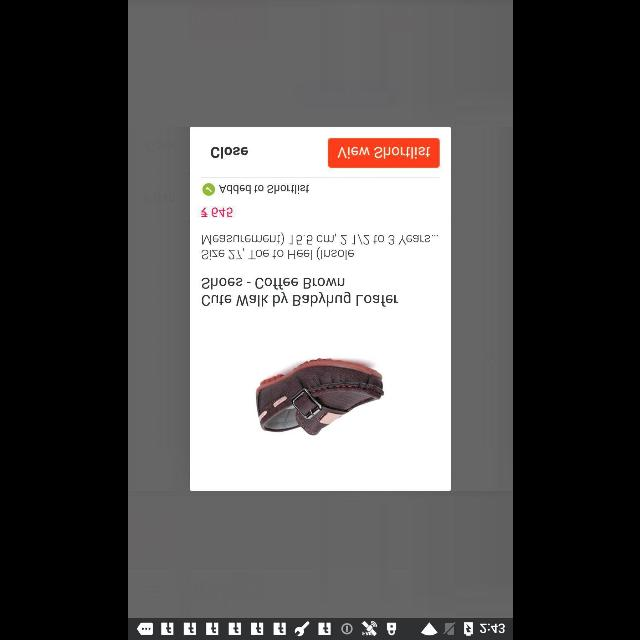checkbox: (202, 184, 214, 196)
image: (255, 358, 383, 436)
panel: (190, 127, 450, 491)
text: (201, 233, 437, 259), (200, 278, 398, 306), (218, 184, 308, 193), (210, 147, 248, 159), (200, 208, 232, 216)
textbutton: (327, 138, 439, 168)
uppertaskbar: (128, 617, 512, 639)
